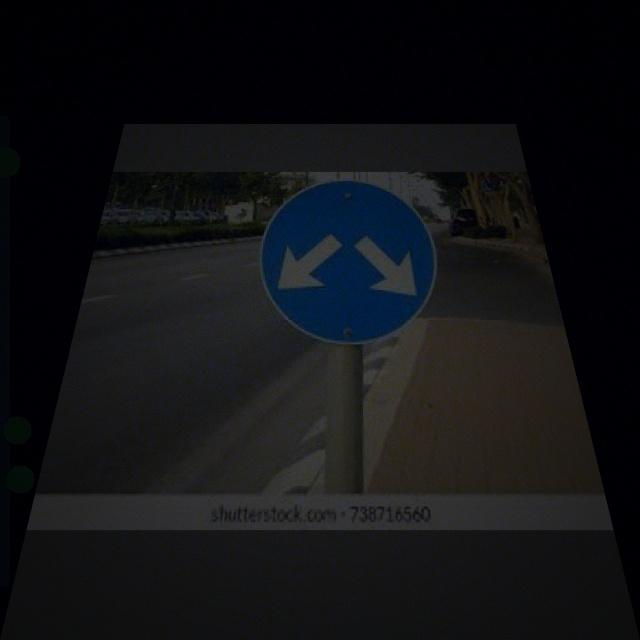Pass_Either_Side: (252, 179, 449, 344)
